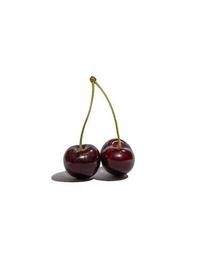cherry: (100, 138, 135, 177), (63, 144, 100, 179)
